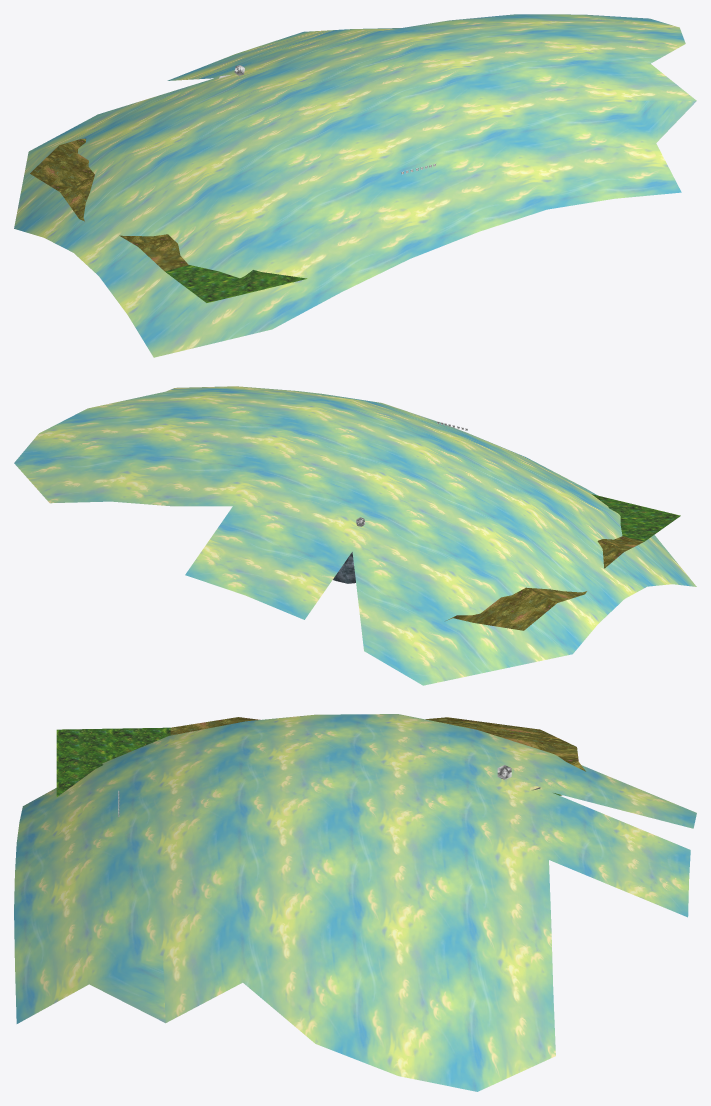
Rendered from rayman_arena_m__timber_wood.glb.
3 views of the same model, one above another, from view 1: azimuth 30°, elevation 25°; view 2: azimuth 150°, elevation 25°; view 3: azimuth 270°, elevation 25° (orthographic). The views are drawn at different scales.
Visible parts, largest first — view 1: Object_7, Object_14, Object_15; view 2: Object_7, Object_14, Object_15; view 3: Object_7, Object_15, Object_14.
Part boxes in pixels (box(x1,y1,x2,y2)): Object_7: box(14, 14, 696, 357); Object_14: box(30, 138, 188, 271); Object_15: box(165, 265, 307, 302); Object_7: box(14, 386, 696, 685); Object_14: box(446, 536, 643, 630); Object_15: box(591, 494, 680, 541); Object_7: box(14, 714, 696, 1091); Object_15: box(56, 727, 561, 796); Object_14: box(170, 717, 585, 771).
Size of the model in its own units: 404 by 97.19 by 276.
Materials: 18 (17 with a texture image).
